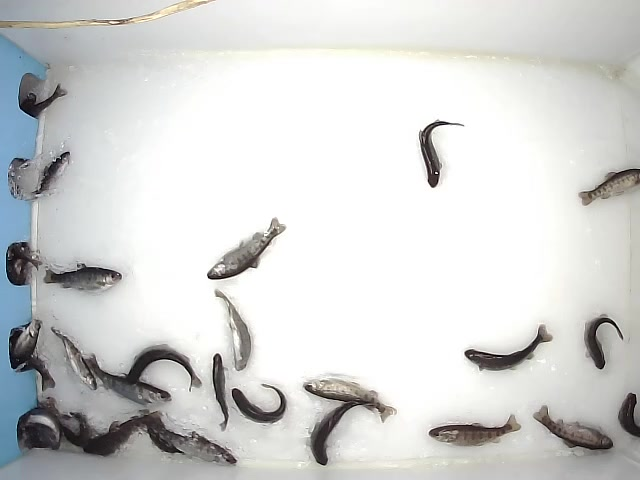fish: (204, 215, 287, 282), (299, 398, 377, 466), (83, 350, 172, 408), (301, 375, 399, 424), (462, 322, 554, 373), (119, 343, 203, 393), (79, 408, 164, 456), (530, 405, 614, 450), (145, 424, 238, 464), (211, 286, 251, 374), (417, 119, 467, 189), (426, 412, 522, 447), (50, 325, 98, 392), (576, 167, 640, 207), (43, 261, 123, 293), (230, 382, 287, 425), (584, 312, 624, 372), (55, 413, 108, 453), (206, 353, 232, 432), (28, 151, 69, 200), (5, 320, 43, 371), (18, 408, 61, 449)
